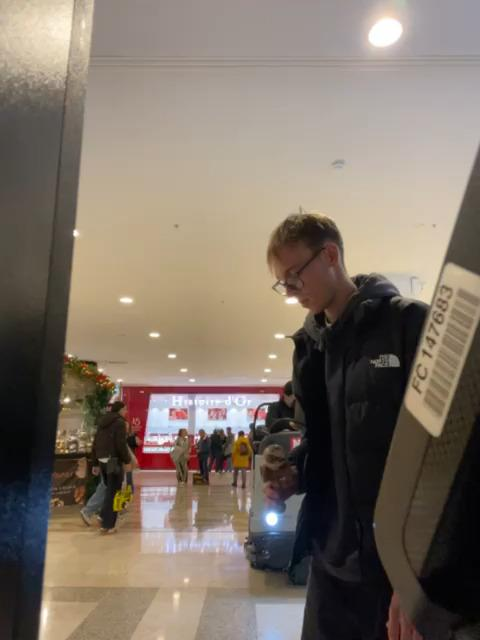kendama_ball: (263, 444, 286, 470)
